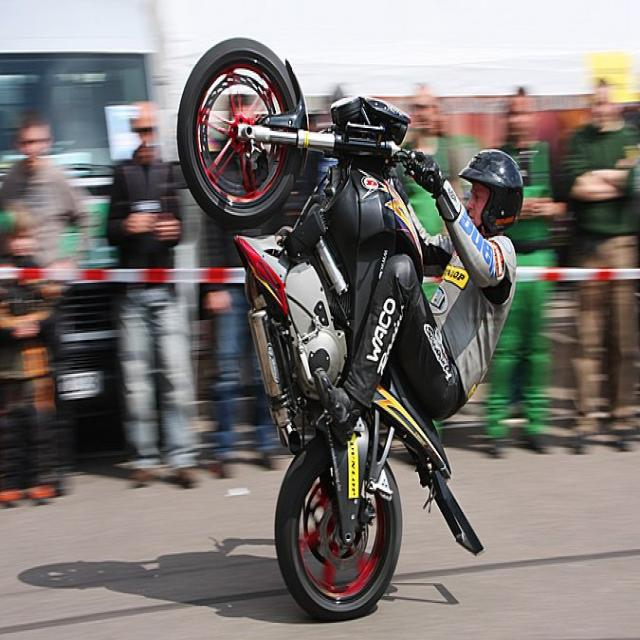Wheeling: (153, 16, 511, 631)
